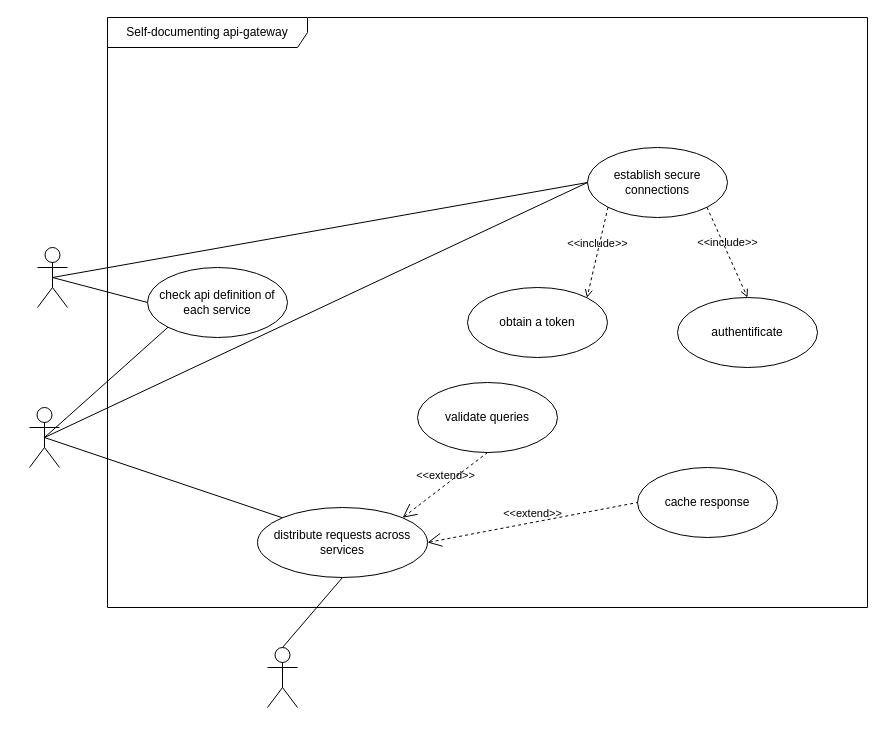
The diagram is 885 pixels wide and 746 high, and some of its shapes have lost their labels. The shapes that lost their labels are listed below. From the top down, each one's centre as x and y in pixels, then its label:
At (x=52, y=277): "analytic".
At (x=44, y=437): "Developer".
At (x=282, y=677): "Solution Architect".
